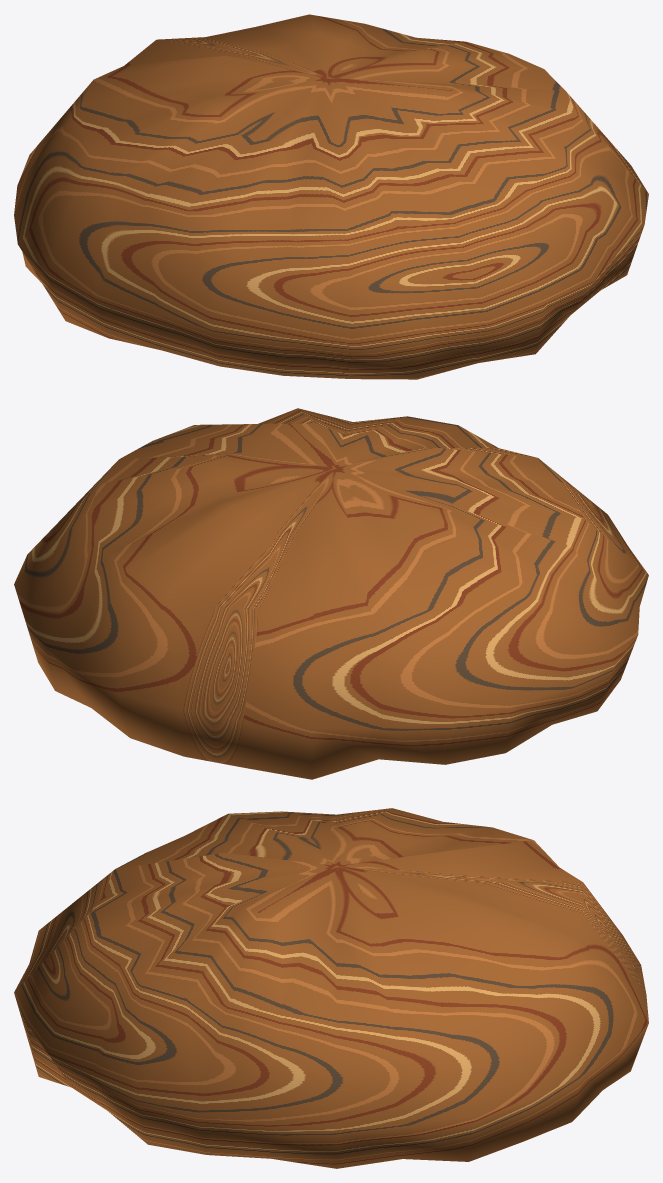
File: acc-02-collectors-paperweight.glb
The picture shows the model from 3 angles, top to bottom: view 1: azimuth 30°, elevation 25°; view 2: azimuth 150°, elevation 25°; view 3: azimuth 270°, elevation 25°; orthographic projection.
Visible parts, largest first — view 1: geometry_0; view 2: geometry_0; view 3: geometry_0.
Boxes of the visible parts, x1,y1,x2,y2 form: geometry_0: (14,14,648,379); geometry_0: (14,408,648,779); geometry_0: (14,808,648,1168).
Bounding box in the file's own units: 0.7298 × 0.2287 × 0.7195.
Materials: 1 (1 with a texture image).
